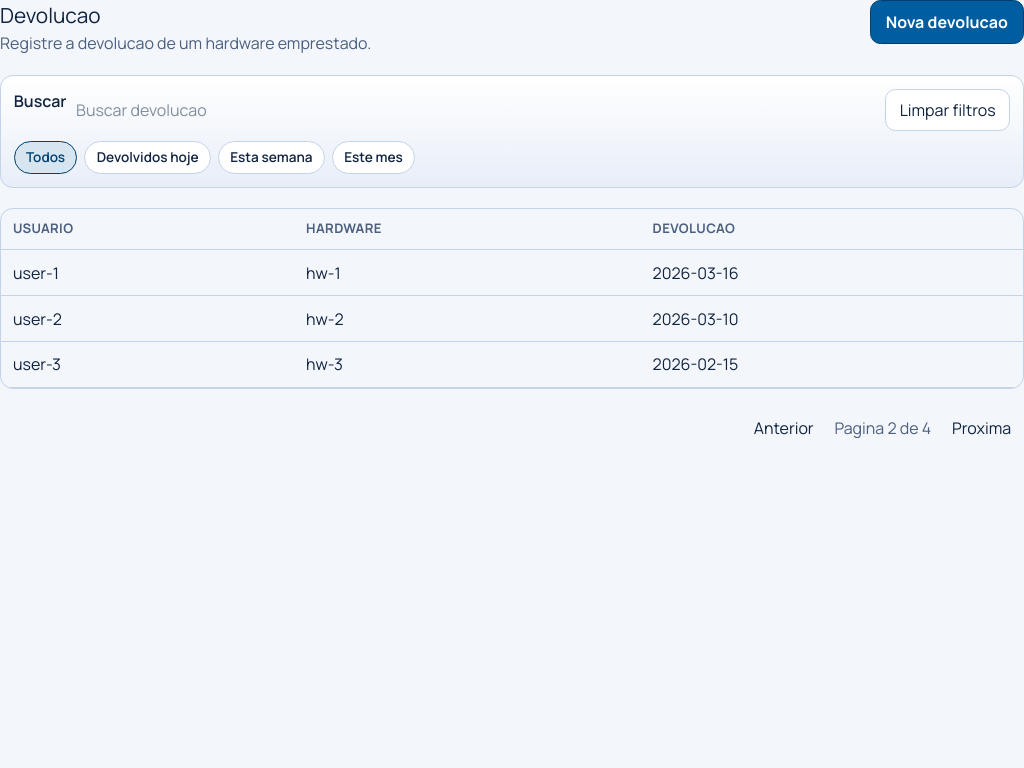
Test: DevolucaoPage listing flow › requires selecting open emprestimo before enabling submit
Click the button "Nova devolucao" at (947, 22), box [870,0,1023,44]
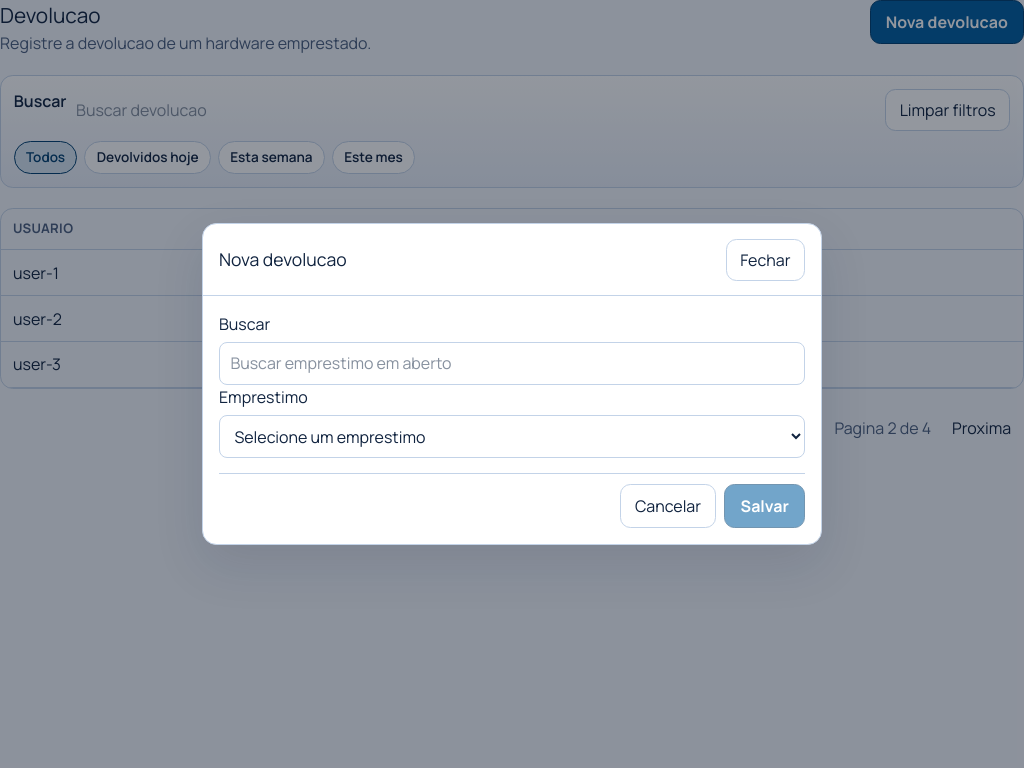
Expected: the button "Salvar" is disabled, [724,484,805,528]
Select "emp-1 - usuario user-1 - hardware hw-1" in the dropdown labelled "Emprestimo" at (512, 437), box [219,415,805,458]
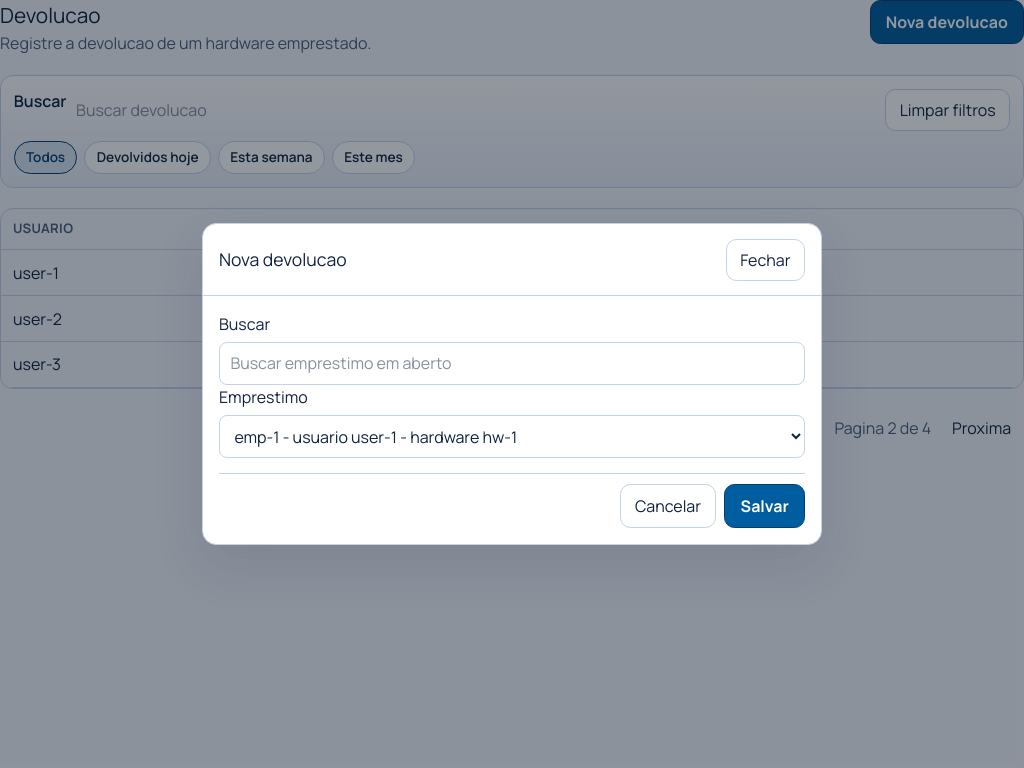
Expected: the button "Devolvidos hoje" is enabled, [84,141,211,174]
Expected: the button "Salvar" is enabled, [724,484,805,528]
